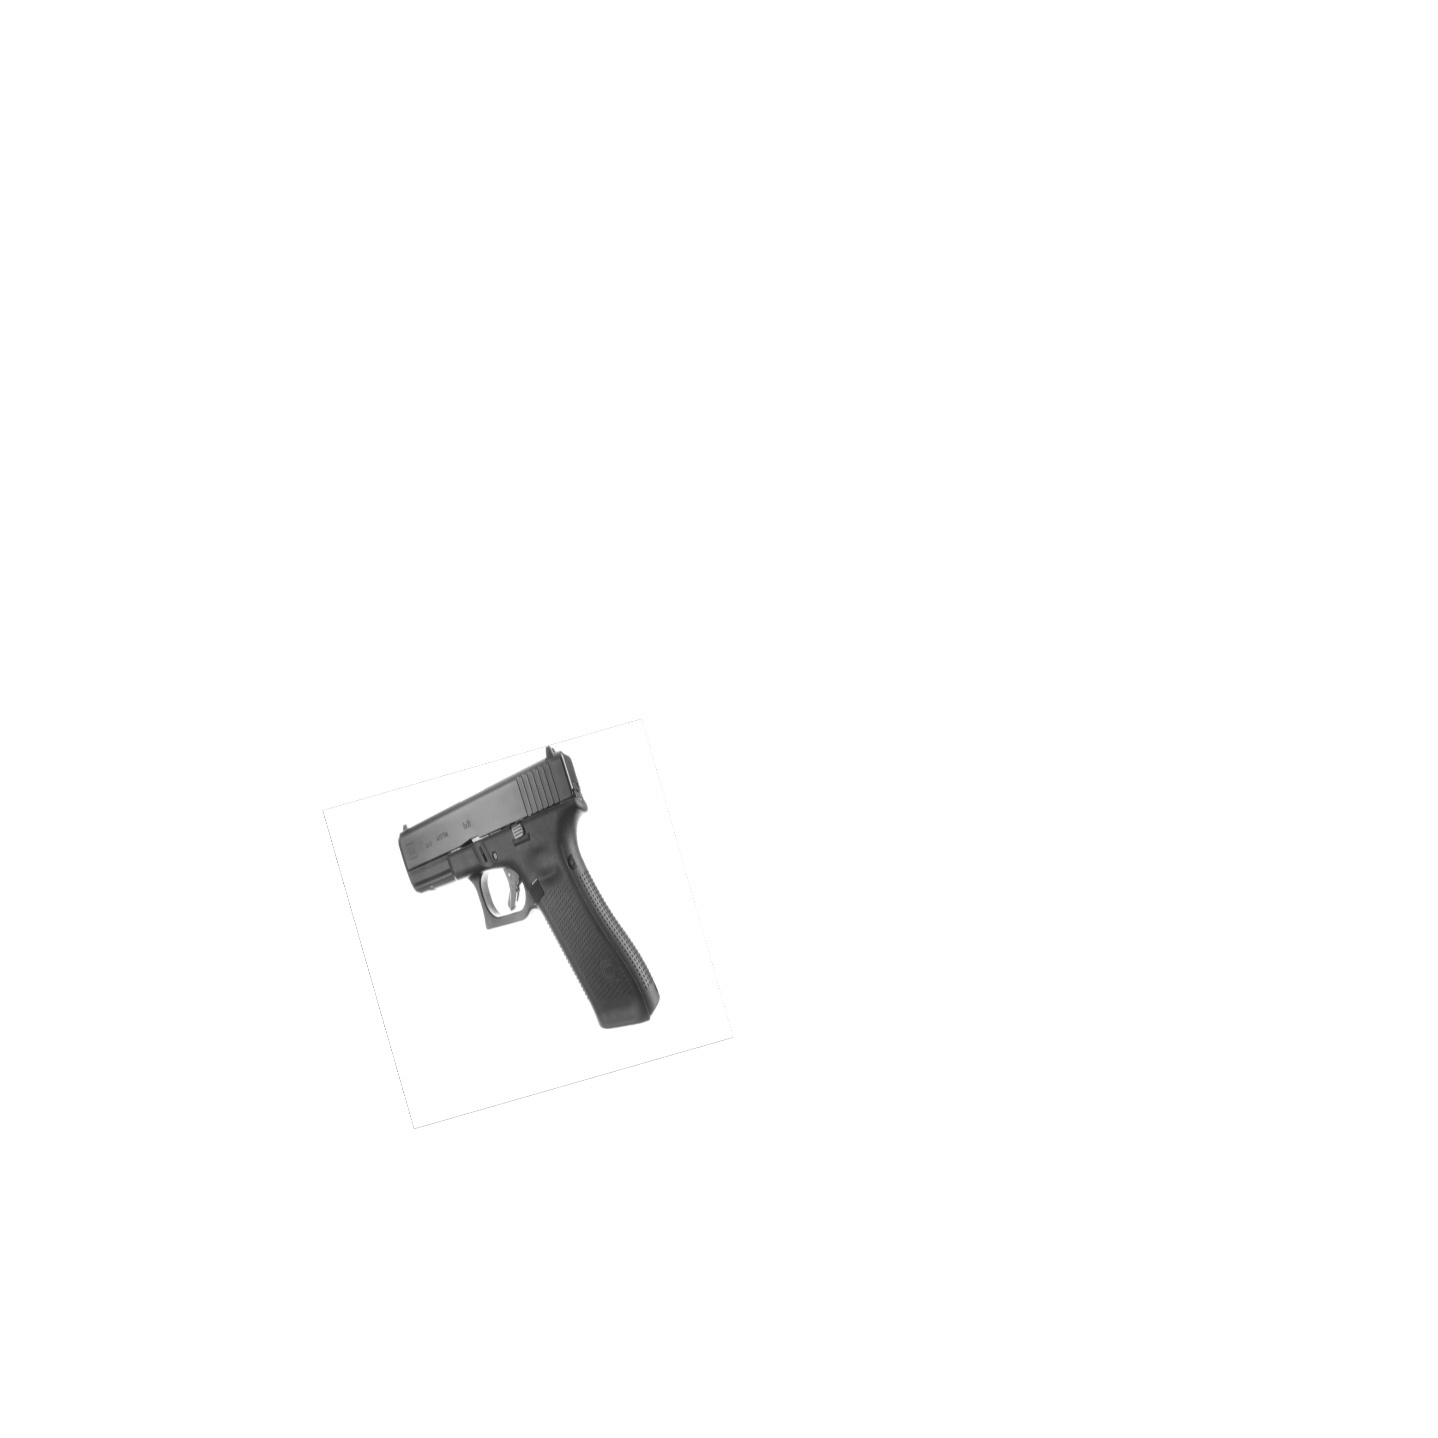gun: (396, 744, 665, 1034)
